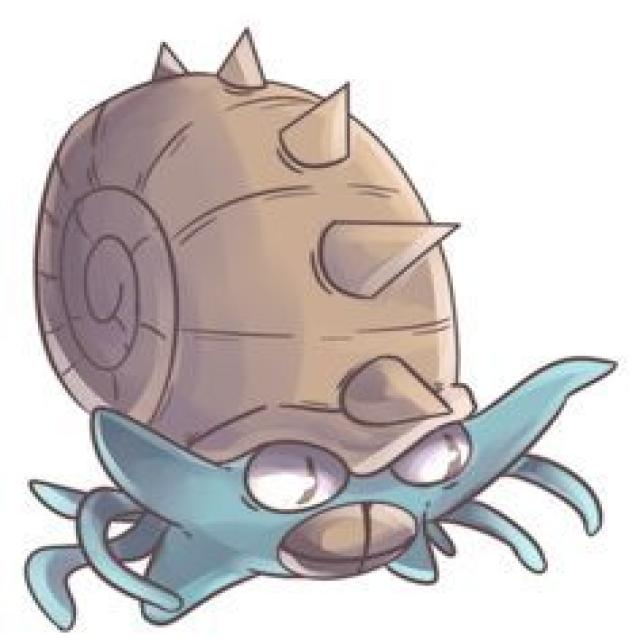Omastar: (31, 49, 474, 614)
